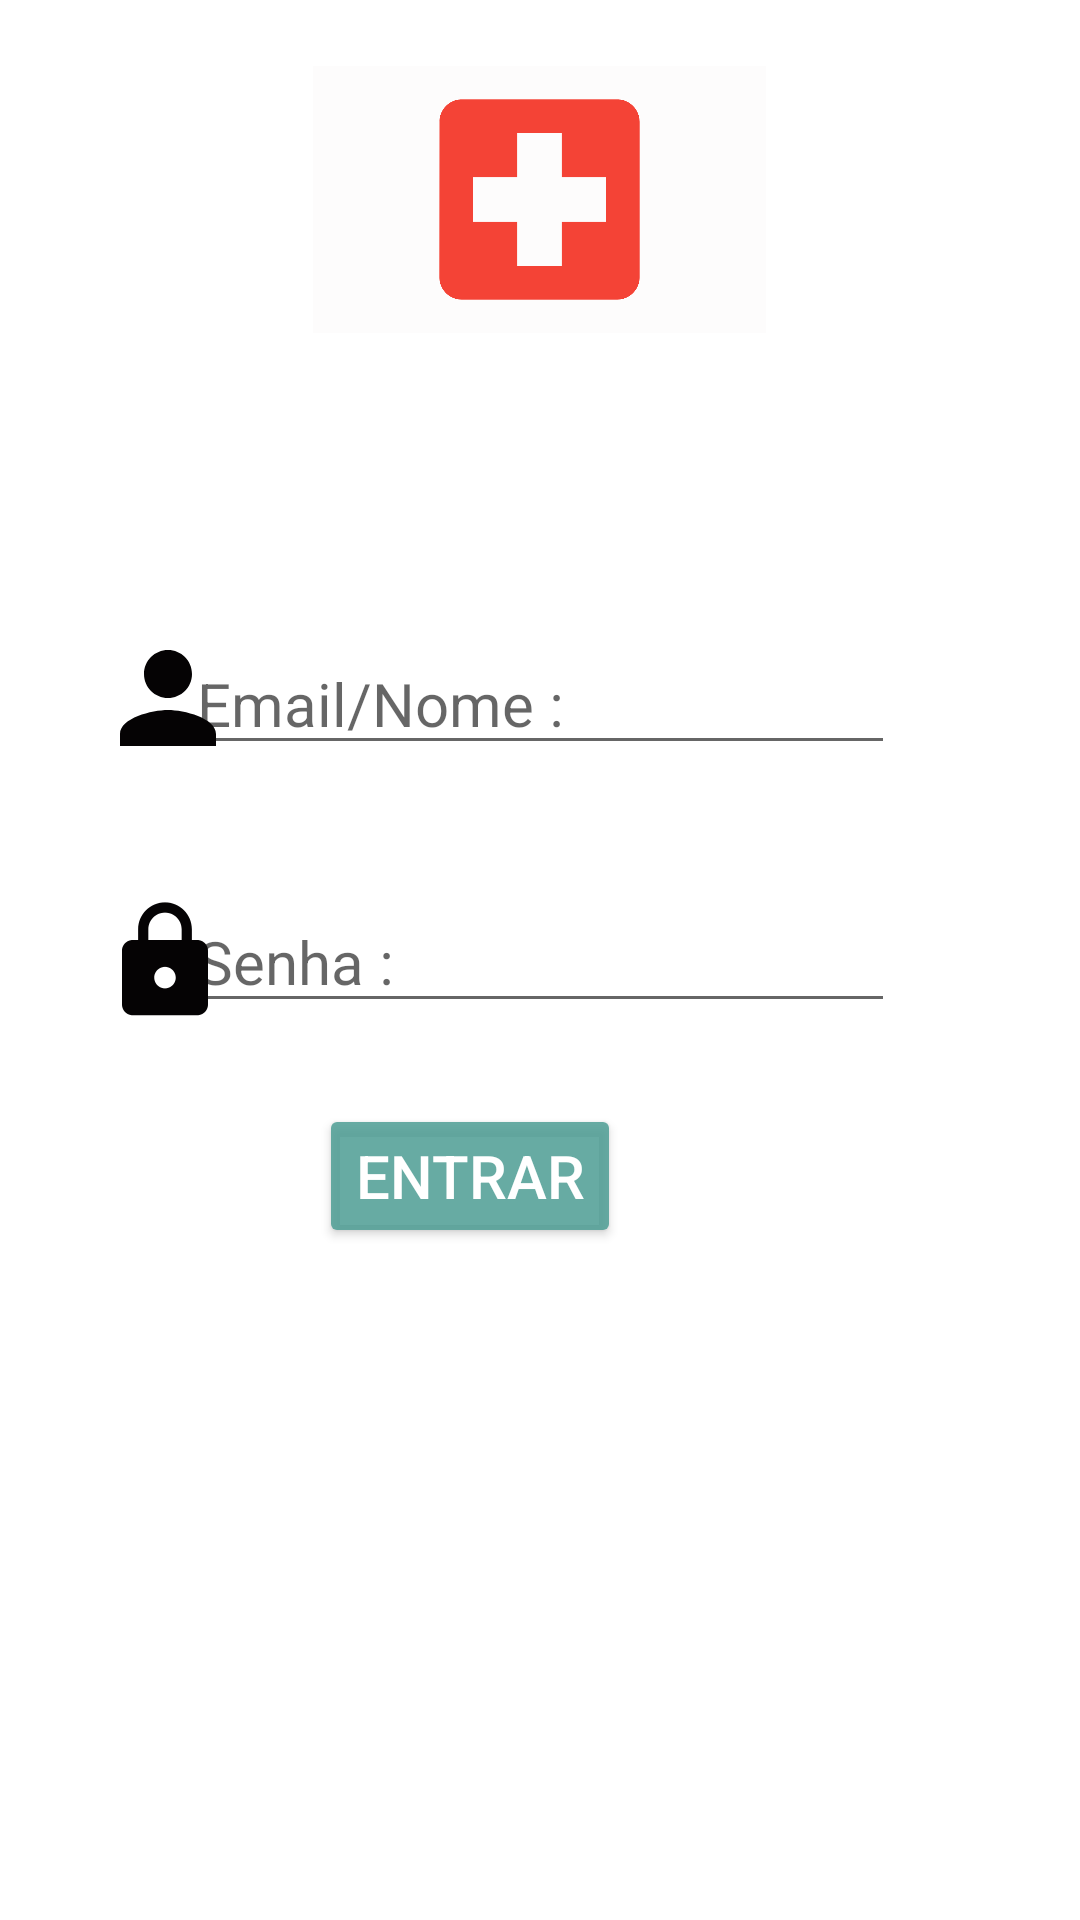

Where icons sit on this 1080x1920 app screen, as (x1, y1, x2, y2):
hospital: (439, 99, 640, 300)
